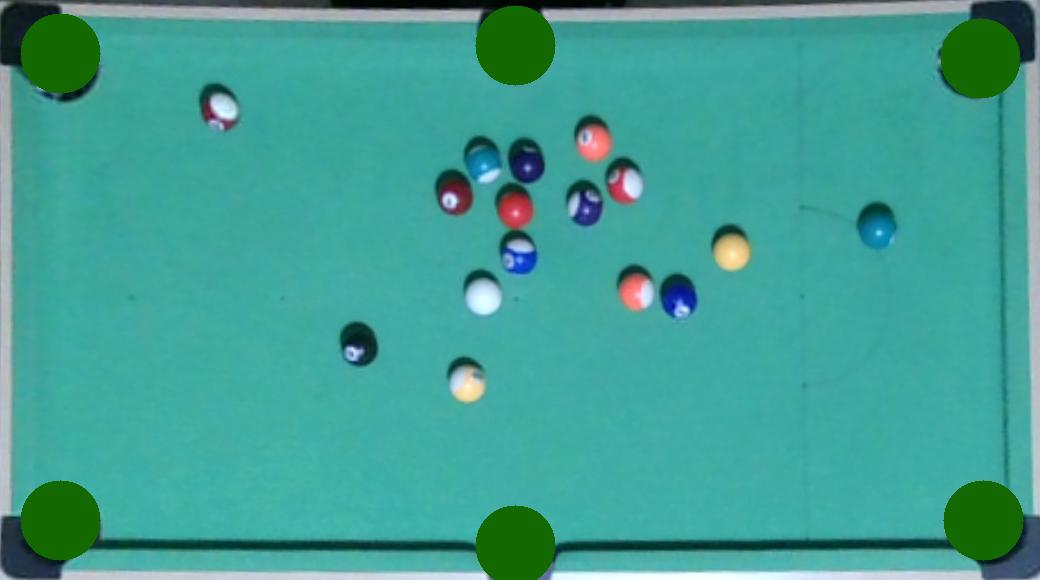Ball: (499, 230, 539, 274), (565, 180, 603, 226), (507, 141, 548, 183), (858, 208, 899, 250), (605, 160, 645, 203), (464, 276, 504, 318), (203, 86, 241, 130), (574, 120, 614, 161), (466, 143, 505, 184), (496, 189, 535, 229), (448, 366, 488, 405), (711, 234, 752, 271), (660, 282, 700, 319), (437, 176, 473, 215), (620, 275, 656, 310), (341, 333, 377, 365)
